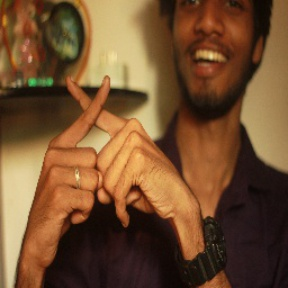X: (42, 67, 151, 171)
